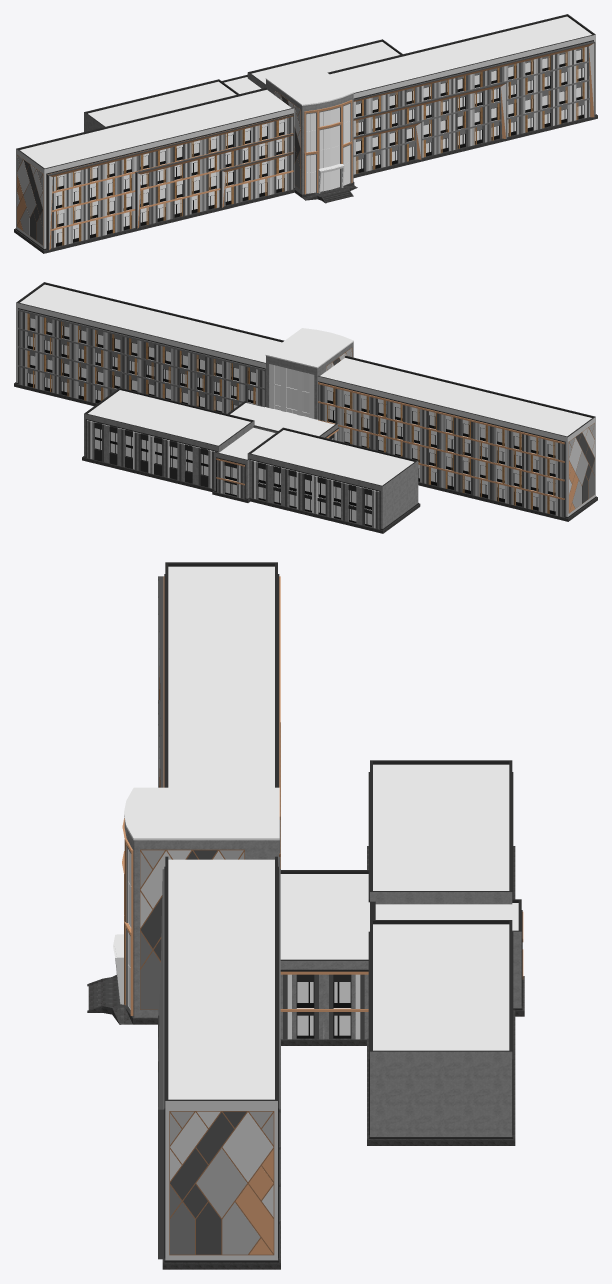
The model's file is school.glb.
The picture shows the model from 3 angles, top to bottom: view 1: azimuth 30°, elevation 25°; view 2: azimuth 150°, elevation 25°; view 3: azimuth 270°, elevation 25°; orthographic projection. The views are drawn at different scales.
Parts seen in each view (by area): view 1: HighSchool.005, HighSchool.026, HighSchool.015, HighSchool.002, HighSchool.012, HighSchool.018, HighSchool.019, HighSchool.032, HighSchool.016, HighSchool.025, HighSchool.001, HighSchool.017 (+14 smaller); view 2: HighSchool.002, HighSchool.005, HighSchool.026, HighSchool.015, HighSchool.018, HighSchool.012, HighSchool.019, HighSchool.006, HighSchool.001, HighSchool.025, HighSchool.024, HighSchool.011 (+8 smaller); view 3: HighSchool.002, HighSchool.005, HighSchool.008, HighSchool.006, HighSchool.028, HighSchool.027, HighSchool.019, HighSchool.016, HighSchool.007, HighSchool.017, HighSchool.010, HighSchool.011 (+1 smaller).
Part boxes in pixels (x1=…): HighSchool.005: x1=20, y1=16, x2=591, y2=168; HighSchool.026: x1=51, y1=116, x2=293, y2=248; HighSchool.015: x1=353, y1=46, x2=589, y2=174; HighSchool.002: x1=84, y1=39, x2=402, y2=131; HighSchool.012: x1=356, y1=49, x2=584, y2=173; HighSchool.018: x1=56, y1=122, x2=284, y2=246; HighSchool.019: x1=15, y1=87, x2=294, y2=249; HighSchool.032: x1=306, y1=104, x2=350, y2=193; HighSchool.016: x1=353, y1=41, x2=595, y2=159; HighSchool.025: x1=356, y1=47, x2=584, y2=173; HighSchool.001: x1=56, y1=120, x2=284, y2=245; HighSchool.017: x1=47, y1=114, x2=293, y2=250; HighSchool.002: x1=82, y1=387, x2=420, y2=533; HighSchool.005: x1=20, y1=284, x2=591, y2=436; HighSchool.026: x1=318, y1=384, x2=564, y2=517; HighSchool.015: x1=18, y1=311, x2=264, y2=413; HighSchool.018: x1=327, y1=390, x2=555, y2=514; HighSchool.012: x1=27, y1=318, x2=255, y2=412; HighSchool.019: x1=317, y1=356, x2=596, y2=517; HighSchool.006: x1=15, y1=282, x2=284, y2=406; HighSchool.001: x1=327, y1=388, x2=555, y2=513; HighSchool.025: x1=27, y1=313, x2=255, y2=410; HighSchool.024: x1=318, y1=382, x2=564, y2=499; HighSchool.011: x1=18, y1=309, x2=264, y2=407; HighSchool.002: x1=280, y1=760, x2=524, y2=1145; HighSchool.005: x1=124, y1=566, x2=279, y2=1099; HighSchool.008: x1=169, y1=1111, x2=274, y2=1255; HighSchool.006: x1=164, y1=856, x2=279, y2=1262; HighSchool.028: x1=140, y1=849, x2=244, y2=1009; HighSchool.027: x1=124, y1=820, x2=278, y2=1017; HighSchool.019: x1=164, y1=562, x2=279, y2=866; HighSchool.016: x1=158, y1=869, x2=164, y2=1259; HighSchool.007: x1=87, y1=974, x2=157, y2=1024; HighSchool.017: x1=158, y1=576, x2=163, y2=787; HighSchool.010: x1=162, y1=1039, x2=280, y2=1269; HighSchool.011: x1=163, y1=869, x2=280, y2=1224.
Bounding box in the file's own units: 109 × 17.5 × 37.24.
21 materials, 3 textured.
